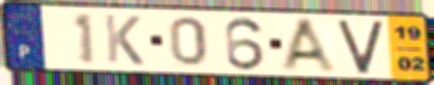0: (166, 15, 213, 69)
1: (71, 11, 95, 66)
6: (223, 15, 267, 72)
A: (278, 16, 342, 75)
K: (101, 12, 147, 67)
V: (335, 19, 386, 76)
